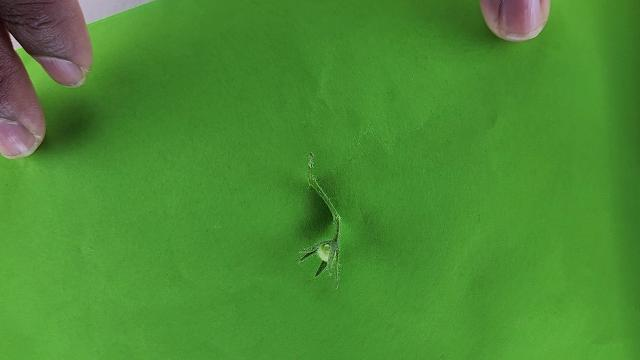Fruit Bud: (297, 236, 340, 283)
